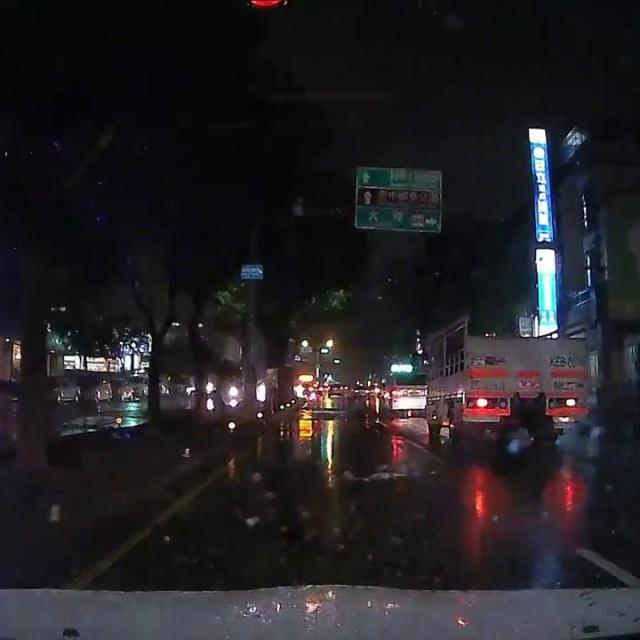Car: (373, 366, 432, 421), (42, 371, 82, 405), (82, 376, 113, 403), (113, 376, 132, 402), (346, 382, 372, 400), (322, 380, 344, 399), (133, 374, 150, 397)
